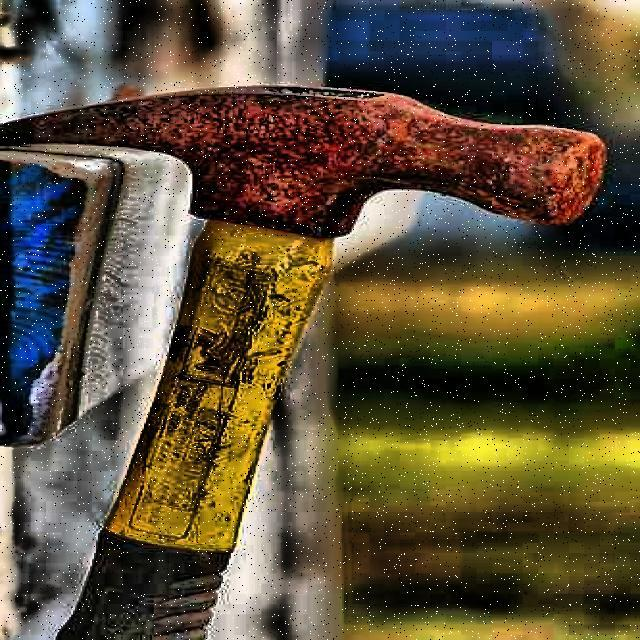hammer: (0, 77, 605, 639)
